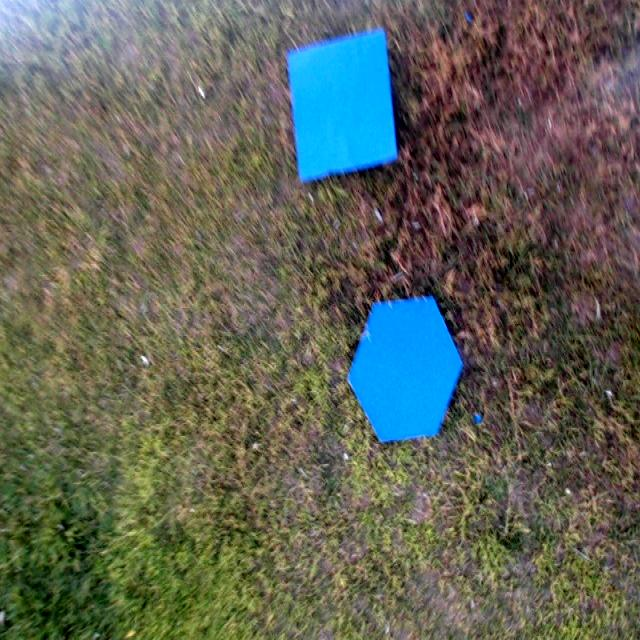blue_hexagon: (348, 296, 464, 443)
blue_square: (287, 27, 400, 182)
